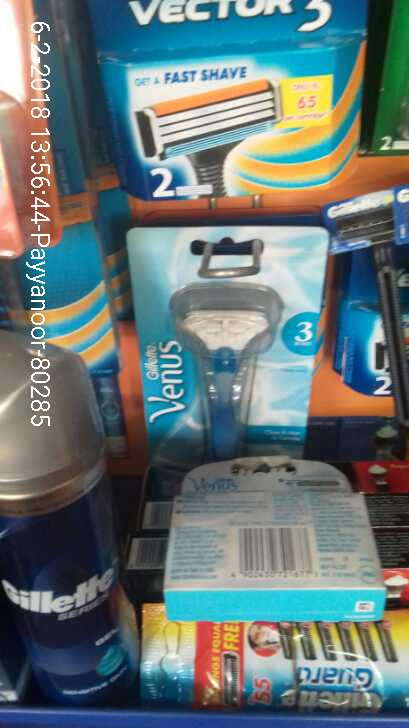beauty: (1, 355, 132, 710), (145, 240, 315, 460), (141, 608, 409, 718), (132, 229, 140, 236)
